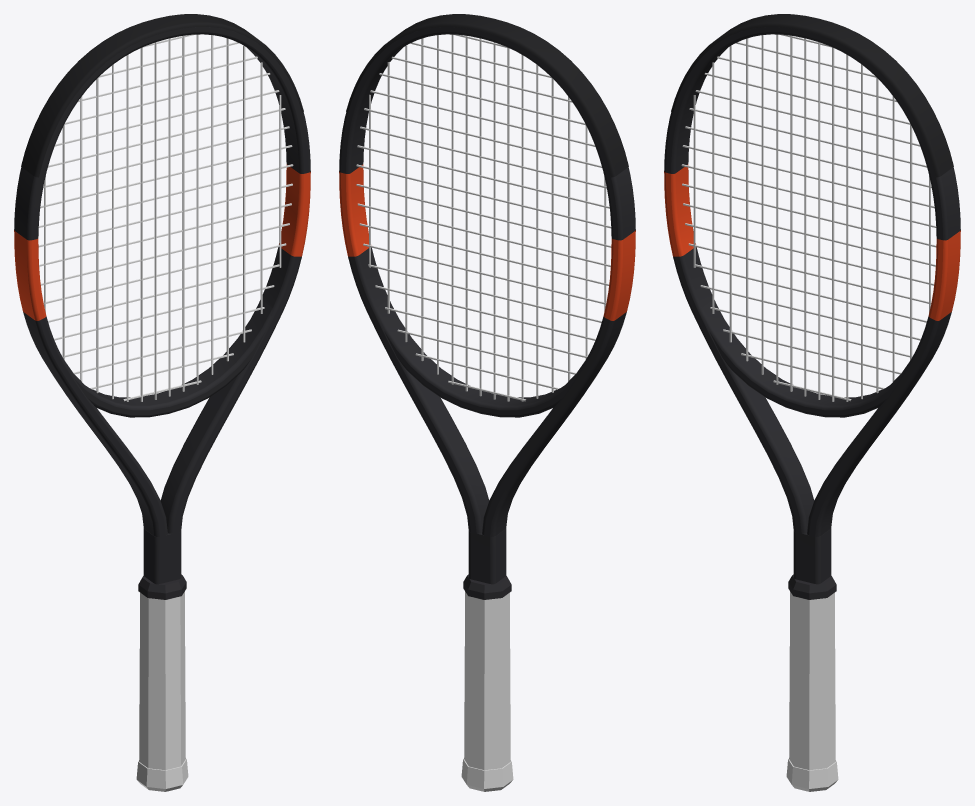
File: babolat-boost-strike-current.glb
The picture shows the model from 3 angles, left to right: view 1: azimuth 30°, elevation 25°; view 2: azimuth 150°, elevation 25°; view 3: azimuth 330°, elevation 25°; orthographic projection.
Visible parts, largest first — view 1: frame, strings_mains, strings_crosses, grip, bumper, butt_cap, collar; view 2: frame, strings_mains, strings_crosses, grip, bumper, butt_cap, collar; view 3: frame, strings_mains, strings_crosses, grip, bumper, butt_cap, collar.
Boxes of the visible parts, box(x1,y1,x2,y2) form: frame: box(14, 27, 310, 584); strings_mains: box(44, 34, 281, 401); strings_crosses: box(38, 34, 293, 401); grip: box(139, 591, 185, 770); bumper: box(21, 14, 303, 177); butt_cap: box(136, 758, 188, 791); collar: box(138, 574, 186, 599); frame: box(339, 27, 635, 584); strings_mains: box(369, 34, 606, 401); strings_crosses: box(356, 34, 611, 401); grip: box(464, 591, 510, 770); bumper: box(346, 14, 628, 177); butt_cap: box(461, 758, 513, 791); collar: box(463, 574, 511, 599); frame: box(664, 27, 960, 584); strings_mains: box(693, 34, 930, 401); strings_crosses: box(681, 34, 936, 401); grip: box(789, 591, 835, 770); bumper: box(671, 14, 953, 177); butt_cap: box(786, 758, 838, 791); collar: box(788, 574, 836, 599).
Size of the model in its own units: 0.2683 by 0.6861 by 0.0396.
